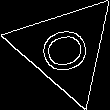O_E: (33, 20, 97, 77)
